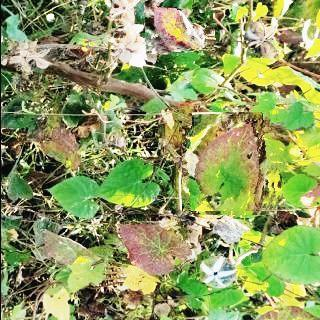blight: (144, 0, 214, 52)
leaf spot: (181, 115, 279, 211), (102, 221, 196, 285)
